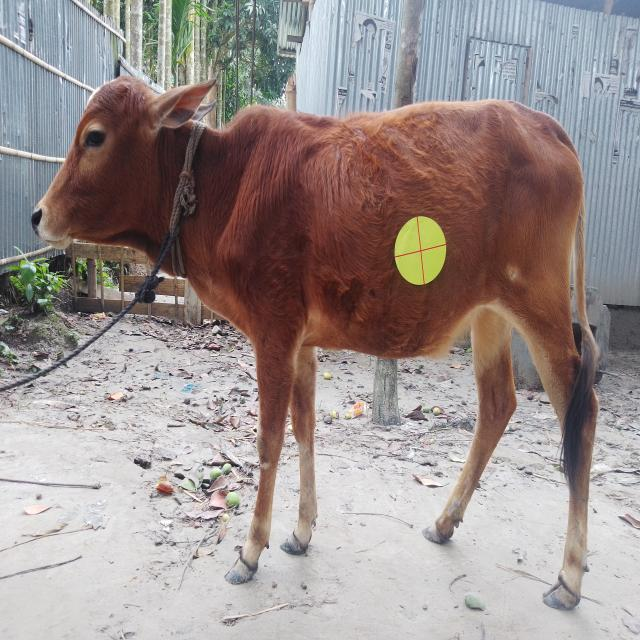badan_sapi: (228, 101, 582, 359)
sapi: (34, 72, 609, 620)
